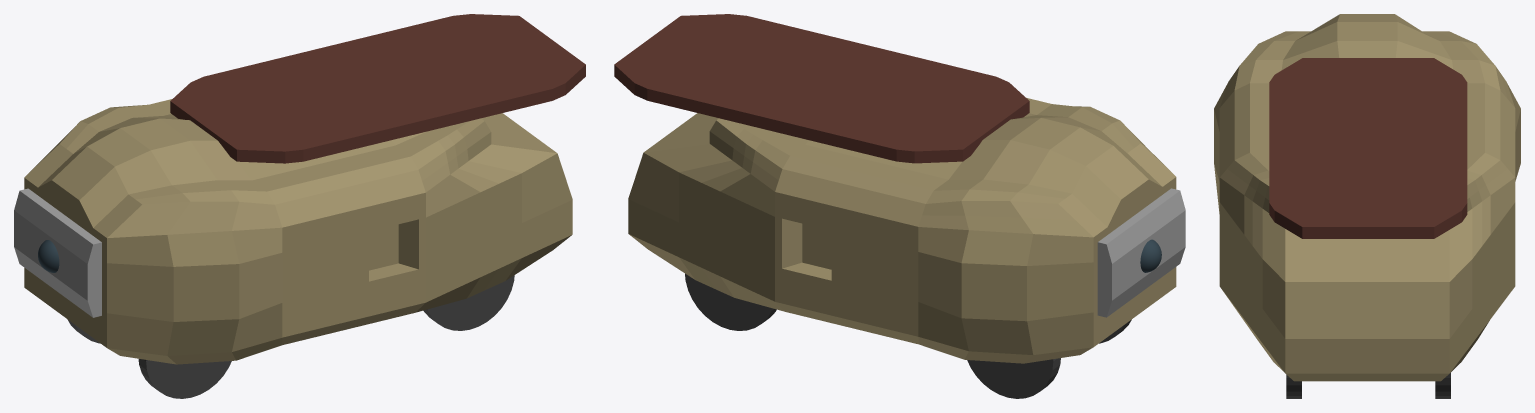
Rendered from robot.glb.
3 renders of one model, left to right at view 1: azimuth 30°, elevation 25°; view 2: azimuth 150°, elevation 25°; view 3: azimuth 270°, elevation 25°, orthographic.
Parts seen in each view (by area): view 1: Cube, Cube.001, Cube.002, Cylinder.001, Sphere; view 2: Cube, Cube.001, Cube.002, Cylinder.001, Sphere; view 3: Cube, Cube.001, Cylinder.001.
Part boxes in pixels (<box>): Cube: <box>24,99,572,364</box>; Cube.001: <box>170,14,585,163</box>; Cube.002: <box>14,188,101,317</box>; Cylinder.001: <box>67,275,514,398</box>; Sphere: <box>38,240,59,272</box>; Cube: <box>628,97,1176,363</box>; Cube.001: <box>614,14,1029,163</box>; Cube.002: <box>1097,188,1185,317</box>; Cylinder.001: <box>685,273,1131,398</box>; Sphere: <box>1140,239,1161,272</box>; Cube: <box>1214,14,1520,381</box>; Cube.001: <box>1269,58,1467,238</box>; Cylinder.001: <box>1286,373,1450,398</box>.
Bounding box in the file's own units: 7.14 × 3.09 × 3.74.
